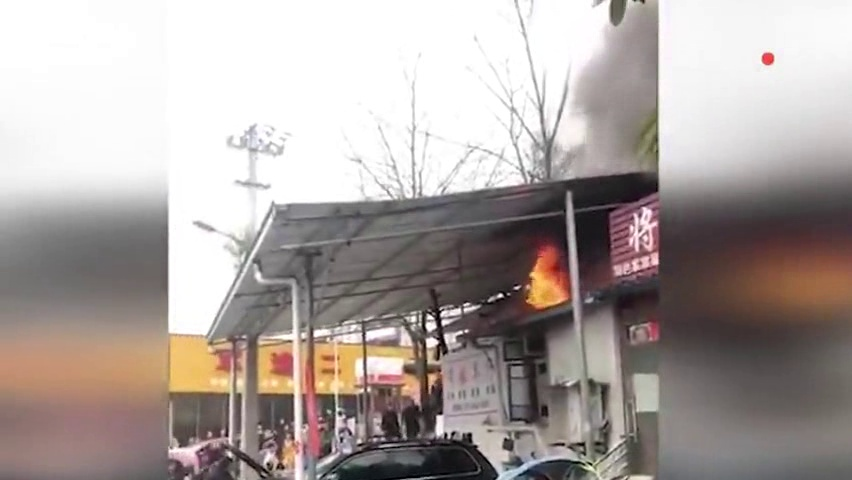fire: (520, 239, 573, 312)
